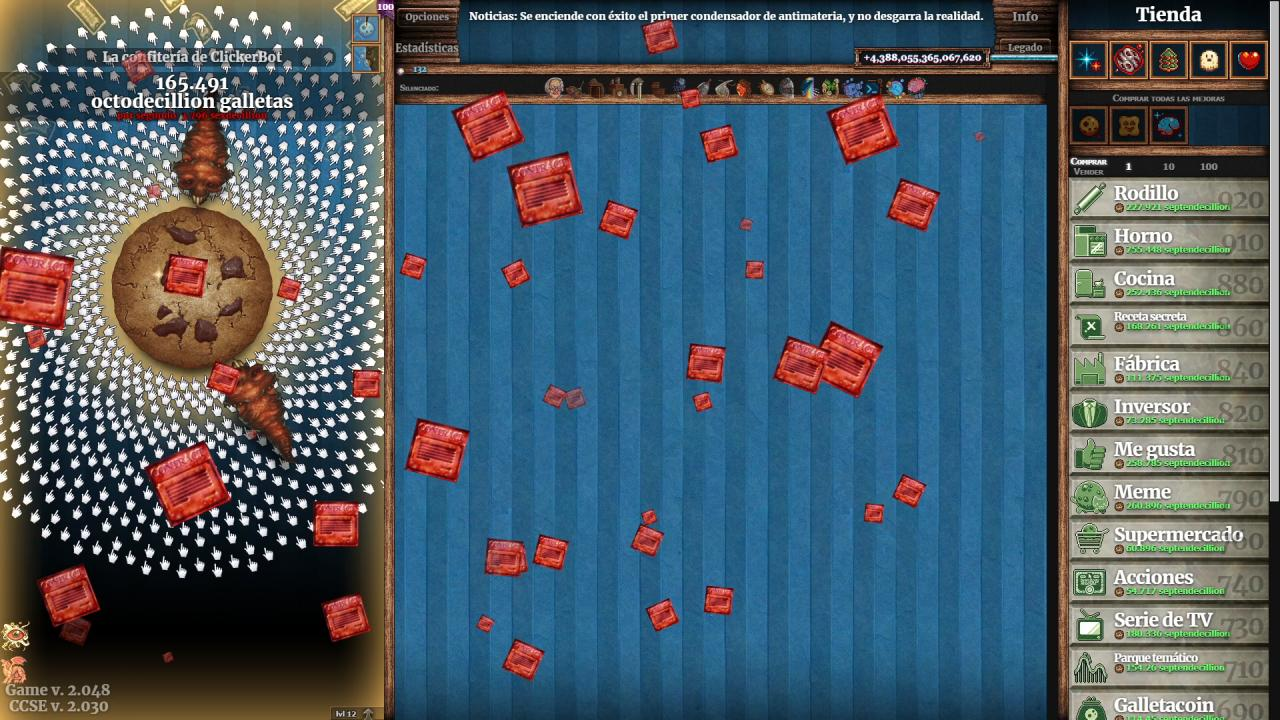RedCartridge: (143, 438, 233, 529), (0, 243, 77, 332), (806, 320, 886, 401), (506, 150, 584, 230), (825, 92, 901, 167), (452, 87, 526, 164), (403, 416, 473, 485), (36, 562, 101, 629), (772, 335, 832, 395), (886, 177, 942, 234), (320, 592, 374, 646), (312, 499, 362, 550), (162, 252, 210, 299), (501, 637, 546, 683), (699, 122, 741, 165), (685, 343, 728, 385), (484, 538, 526, 579), (530, 532, 572, 572), (598, 199, 638, 241), (640, 17, 681, 57), (205, 360, 242, 397), (646, 596, 682, 633), (630, 522, 666, 559), (892, 473, 928, 510), (121, 48, 156, 86), (58, 614, 92, 647), (704, 584, 736, 617), (501, 258, 531, 290), (352, 368, 382, 399), (399, 252, 428, 282), (276, 276, 303, 304), (542, 383, 567, 410), (564, 385, 588, 412), (680, 87, 704, 111), (691, 390, 715, 413), (25, 326, 47, 350), (864, 503, 886, 524), (744, 259, 765, 281), (476, 614, 494, 634), (737, 216, 755, 233), (642, 509, 658, 524)
